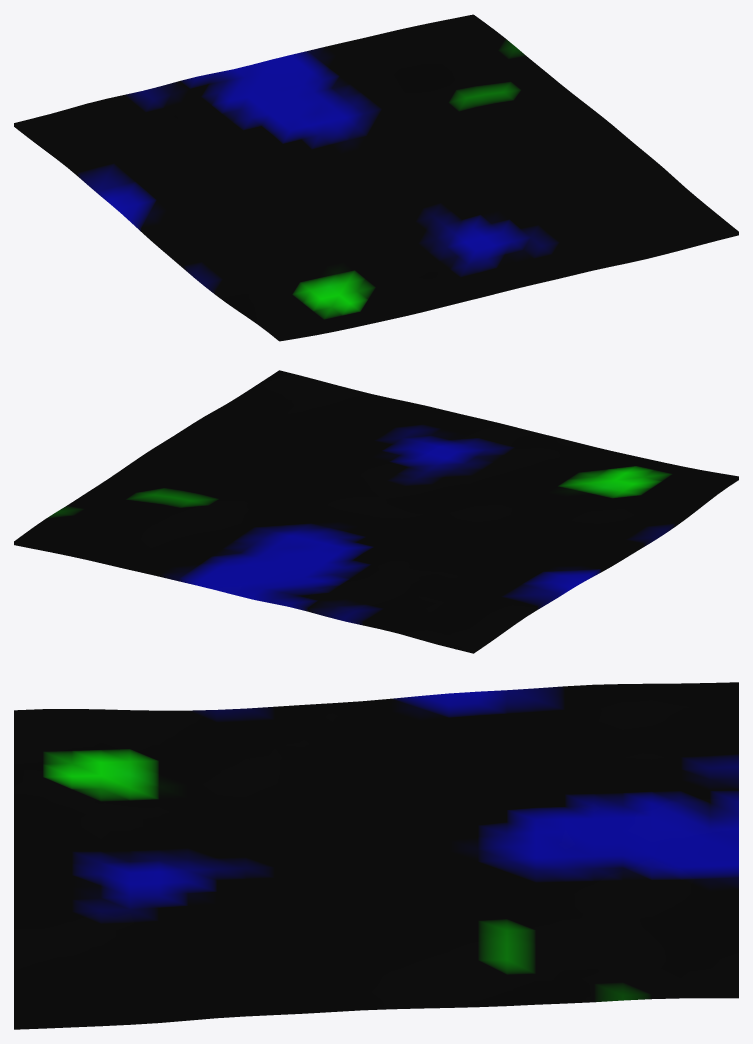
File: coast_15_6.glb
The picture shows the model from 3 angles, top to bottom: view 1: azimuth 30°, elevation 25°; view 2: azimuth 150°, elevation 25°; view 3: azimuth 270°, elevation 25°; orthographic projection. The views are drawn at different scales.
Parts seen in each view (by area): view 1: terrain; view 2: terrain; view 3: terrain.
Part boxes in pixels (x1,y1,x2,y2): terrain: (14,14,738,341); terrain: (14,370,738,653); terrain: (14,682,738,1029).
Size of the model in its own units: 200 by 13.78 by 200.
